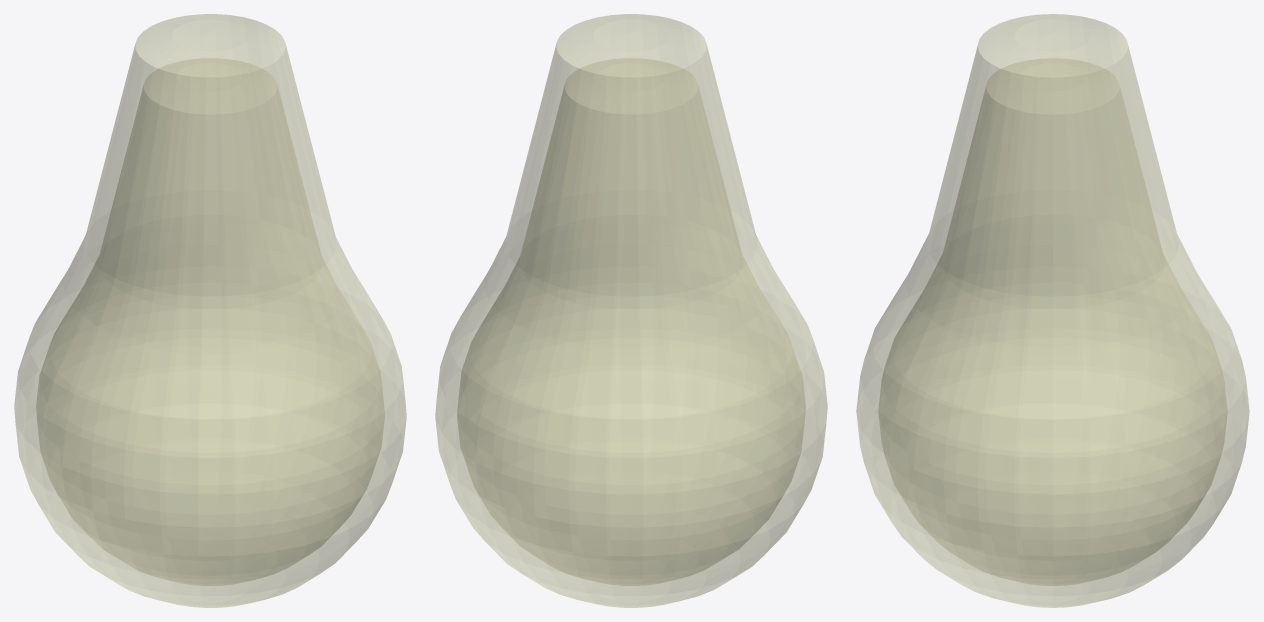
The model's file is Light_bulb.glb.
The picture shows the model from 3 angles, left to right: view 1: azimuth 30°, elevation 25°; view 2: azimuth 150°, elevation 25°; view 3: azimuth 270°, elevation 25°; orthographic projection.
Visible parts, largest first — view 1: Sphere; view 2: Sphere; view 3: Sphere.
Part boxes in pixels (x1,y1,x2,y2): Sphere: (14, 14, 406, 607); Sphere: (435, 14, 827, 607); Sphere: (856, 14, 1249, 607).
Bounding box in the file's own units: 0.2 × 0.3128 × 0.2.
